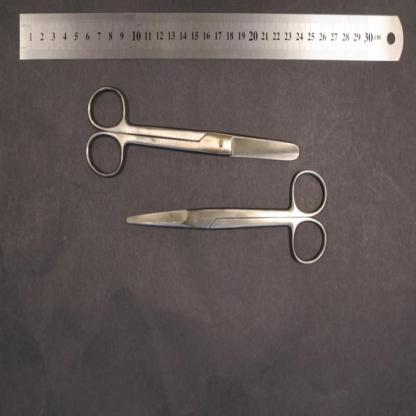Curved Mayo Scissors: (126, 169, 328, 268)
Dressing Scissors: (85, 82, 300, 179)
